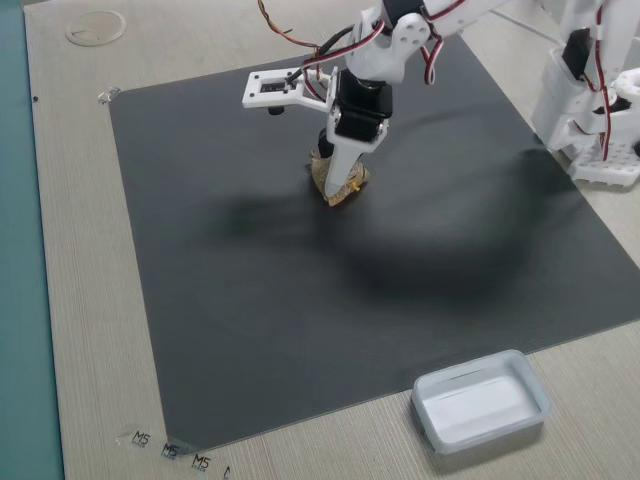objects: (270, 47, 396, 193)
